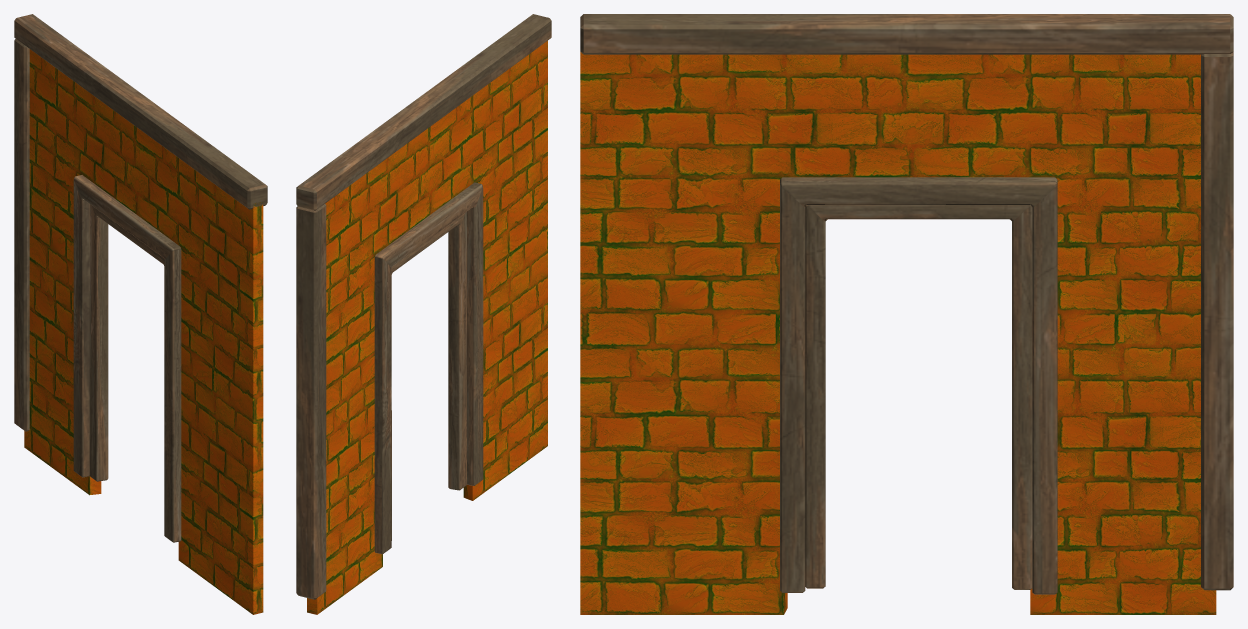
The model's file is SM_wall_06.fbx.
3 renders of one model, left to right at view 1: azimuth 30°, elevation 25°; view 2: azimuth 150°, elevation 25°; view 3: azimuth 270°, elevation 25°, orthographic. The views are drawn at different scales.
Visible parts, largest first — view 1: SM_wall_06_LOD0; view 2: SM_wall_06_LOD0; view 3: SM_wall_06_LOD0.
Boxes of the visible parts, left/top/right/bottom form: SM_wall_06_LOD0: left=14, top=14, right=267, bottom=614; SM_wall_06_LOD0: left=296, top=14, right=551, bottom=614; SM_wall_06_LOD0: left=580, top=14, right=1233, bottom=614.
Bounding box in the file's own units: 26.73 × 400 × 400.
2 materials, 2 textured.
